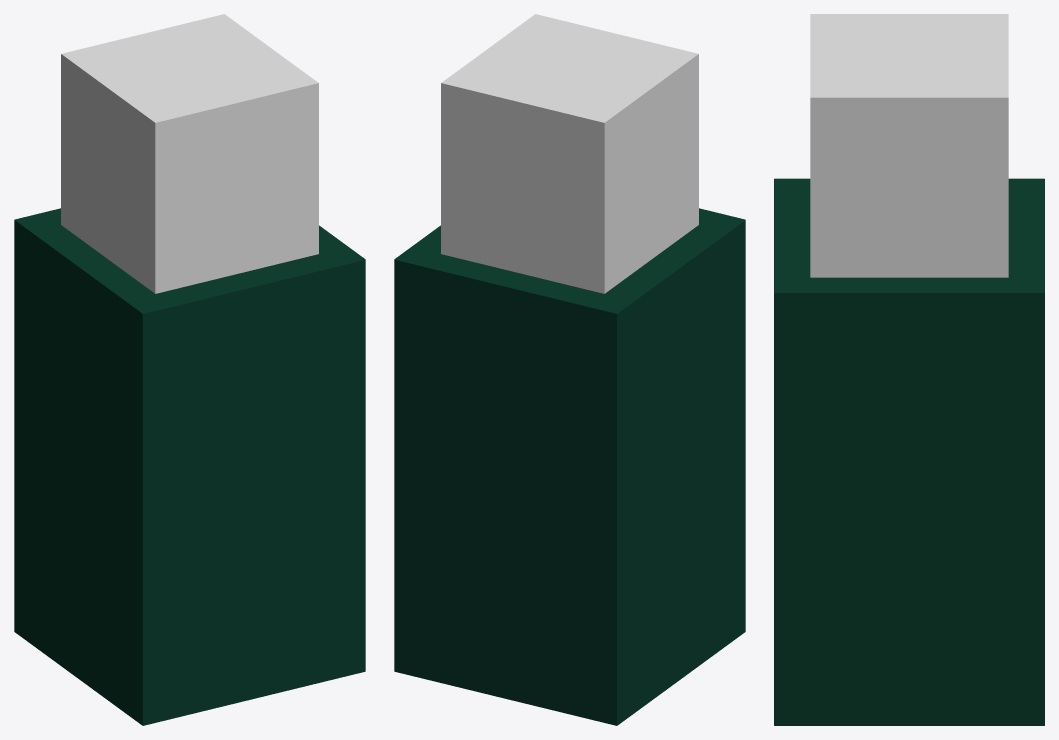
File: cube_green.glb
The picture shows the model from 3 angles, left to right: view 1: azimuth 30°, elevation 25°; view 2: azimuth 150°, elevation 25°; view 3: azimuth 270°, elevation 25°; orthographic projection. The views are drawn at different scales.
Visible parts, largest first — view 1: Cube, placeholder; view 2: Cube, placeholder; view 3: Cube, placeholder.
Boxes of the visible parts, bbox=[...] form: Cube: bbox=[14, 208, 365, 725]; placeholder: bbox=[61, 14, 318, 293]; Cube: bbox=[394, 208, 745, 725]; placeholder: bbox=[441, 14, 698, 293]; Cube: bbox=[774, 178, 1044, 725]; placeholder: bbox=[810, 14, 1008, 277].
Size of the model in its own units: 2 by 5 by 2.
